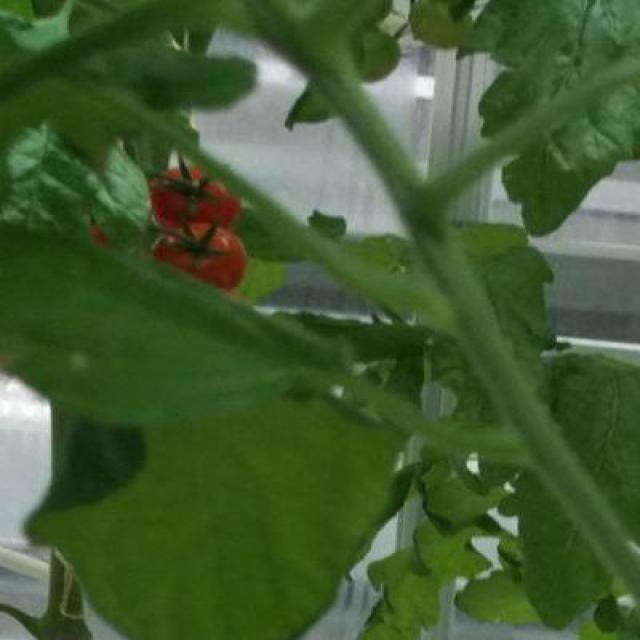tomato: (149, 227, 243, 295), (146, 170, 239, 230)
